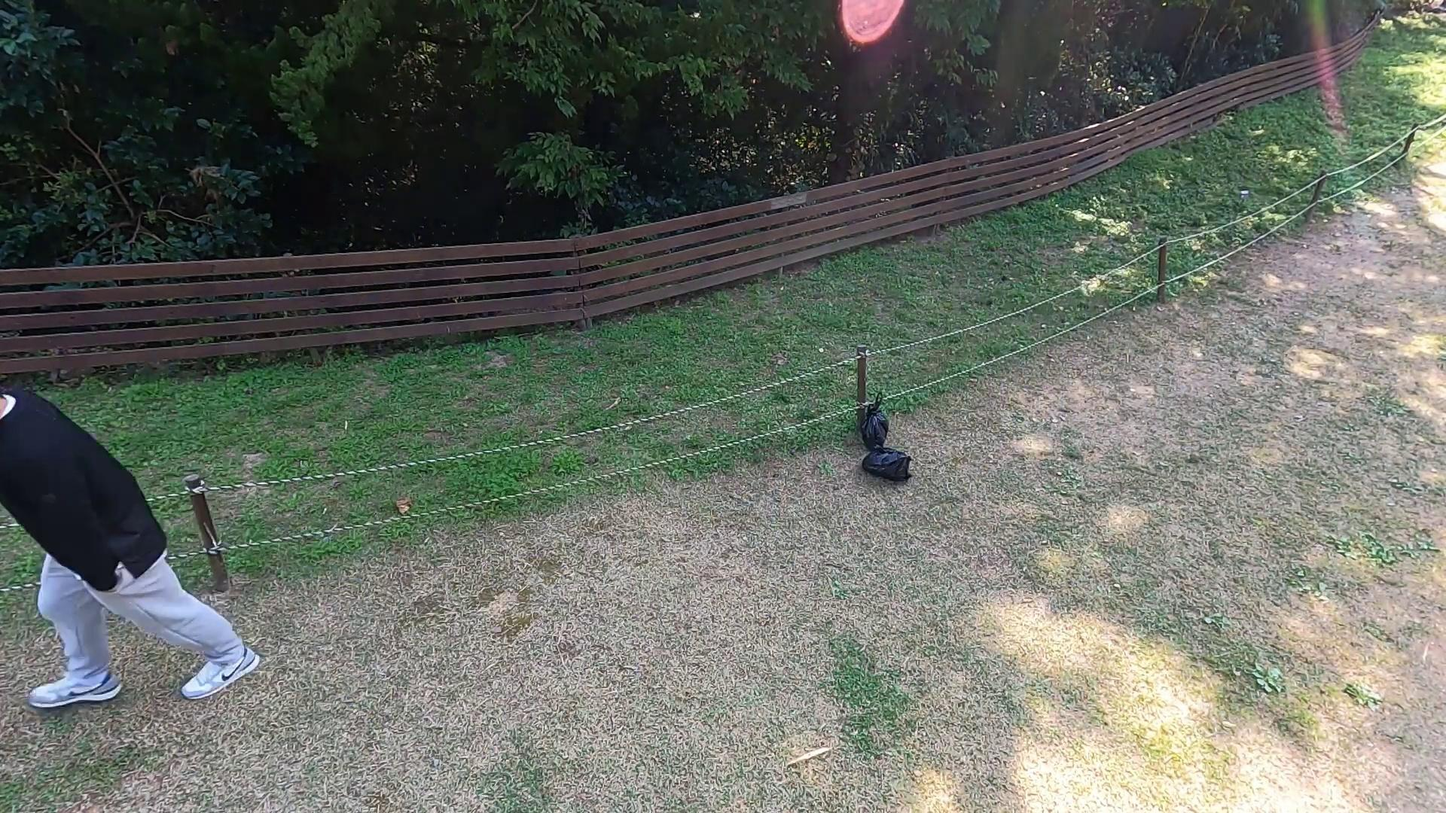person: (0, 346, 265, 720)
trash: (854, 389, 901, 456), (860, 442, 913, 493)
